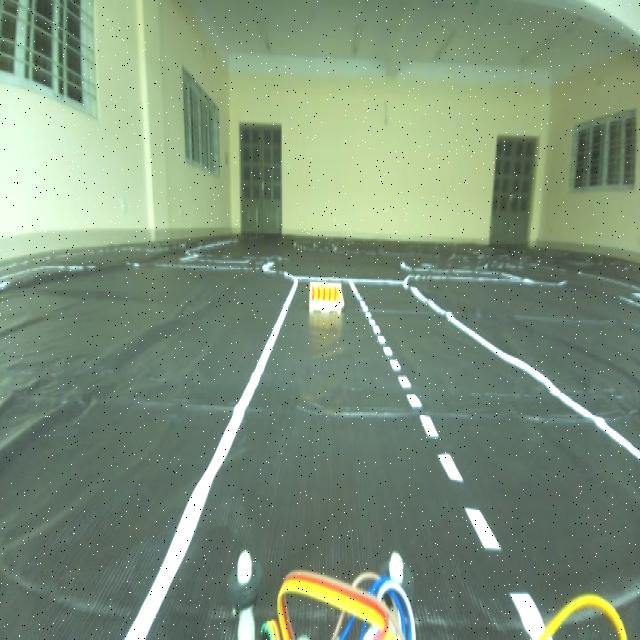roadblock: (306, 279, 348, 323)
